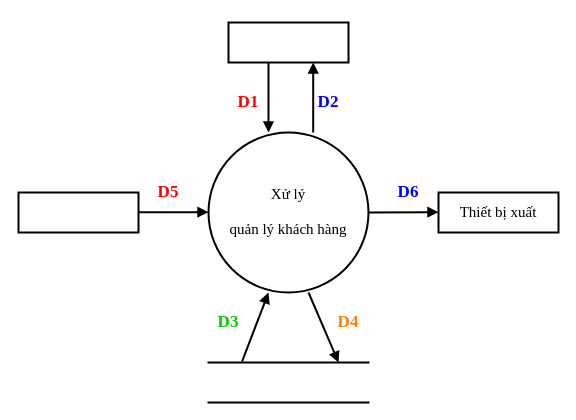
Image size: 576x420. Some labels were removed from this diagram. Here are the shapes that lost their labels. From the top down, the centre of each, then its label:
point (288, 42): Nhân viên
point (78, 212): Thiết bị nhập
